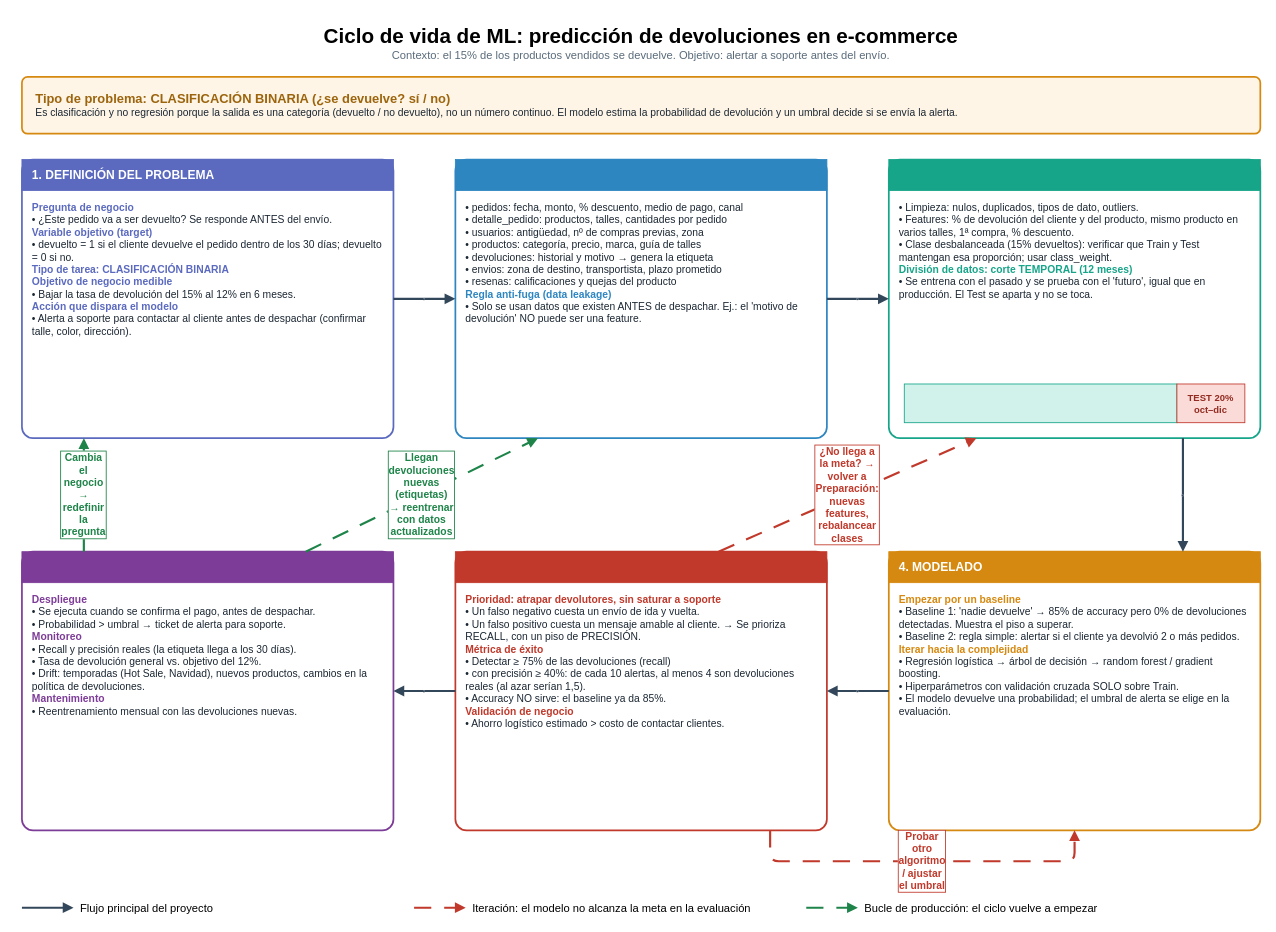
Some shapes in this 1276 by 932 pixel diagram are drawn without their labels. The centre of each missing label's shape, as x and y in pixels:
"2. ADQUISICIÓN DE DATOS (SQL)" belongs at [641,174].
"3. PREPARACIÓN DE DATOS" belongs at [1074,174].
"5. EVALUACIÓN (sobre el Test Set, una sola vez)" belongs at [641,567].
"6. PRODUCCIÓN Y MONITOREO" belongs at [207,567].
"TRAIN 80% · ene–sep entrenar + validación cruzada" belongs at [1040,403].
